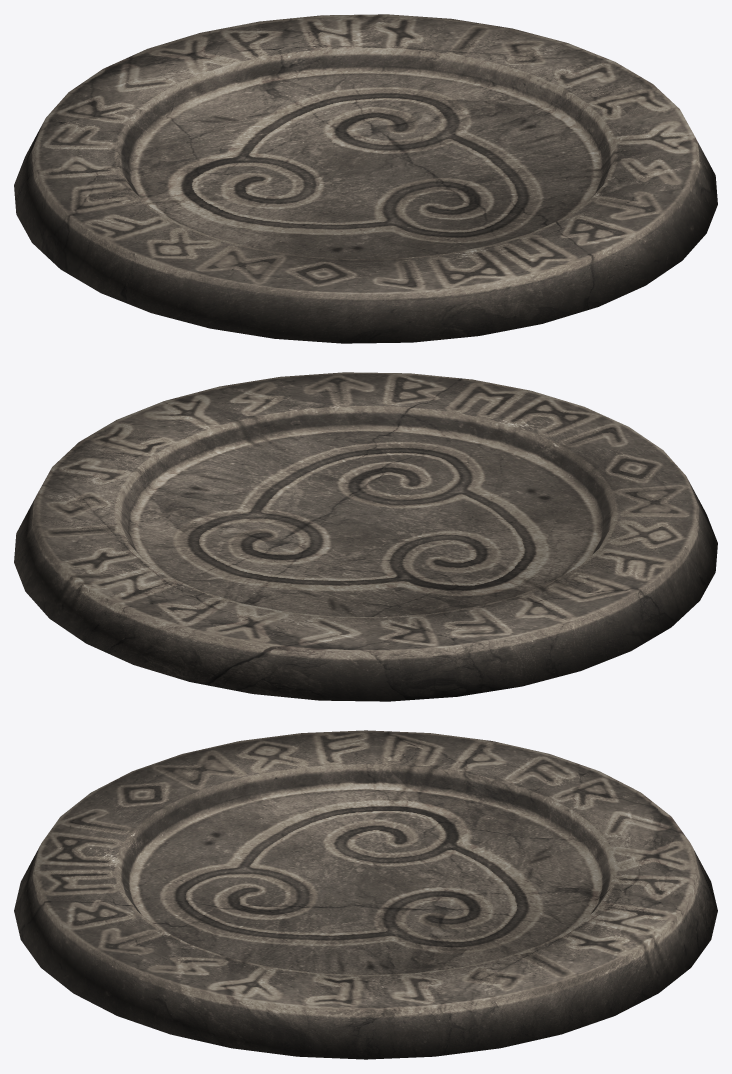
The model's file is rune.fbx.
The picture shows the model from 3 angles, top to bottom: view 1: azimuth 30°, elevation 25°; view 2: azimuth 150°, elevation 25°; view 3: azimuth 270°, elevation 25°; orthographic projection.
Visible parts, largest first — view 1: lo; view 2: lo; view 3: lo.
Part boxes in pixels (<box>): lo: <box>14,14,717,343</box>; lo: <box>14,372,717,701</box>; lo: <box>14,730,717,1059</box>.
Size of the model in its own units: 2.18 by 0.139 by 2.18.
1 material, 1 textured.
